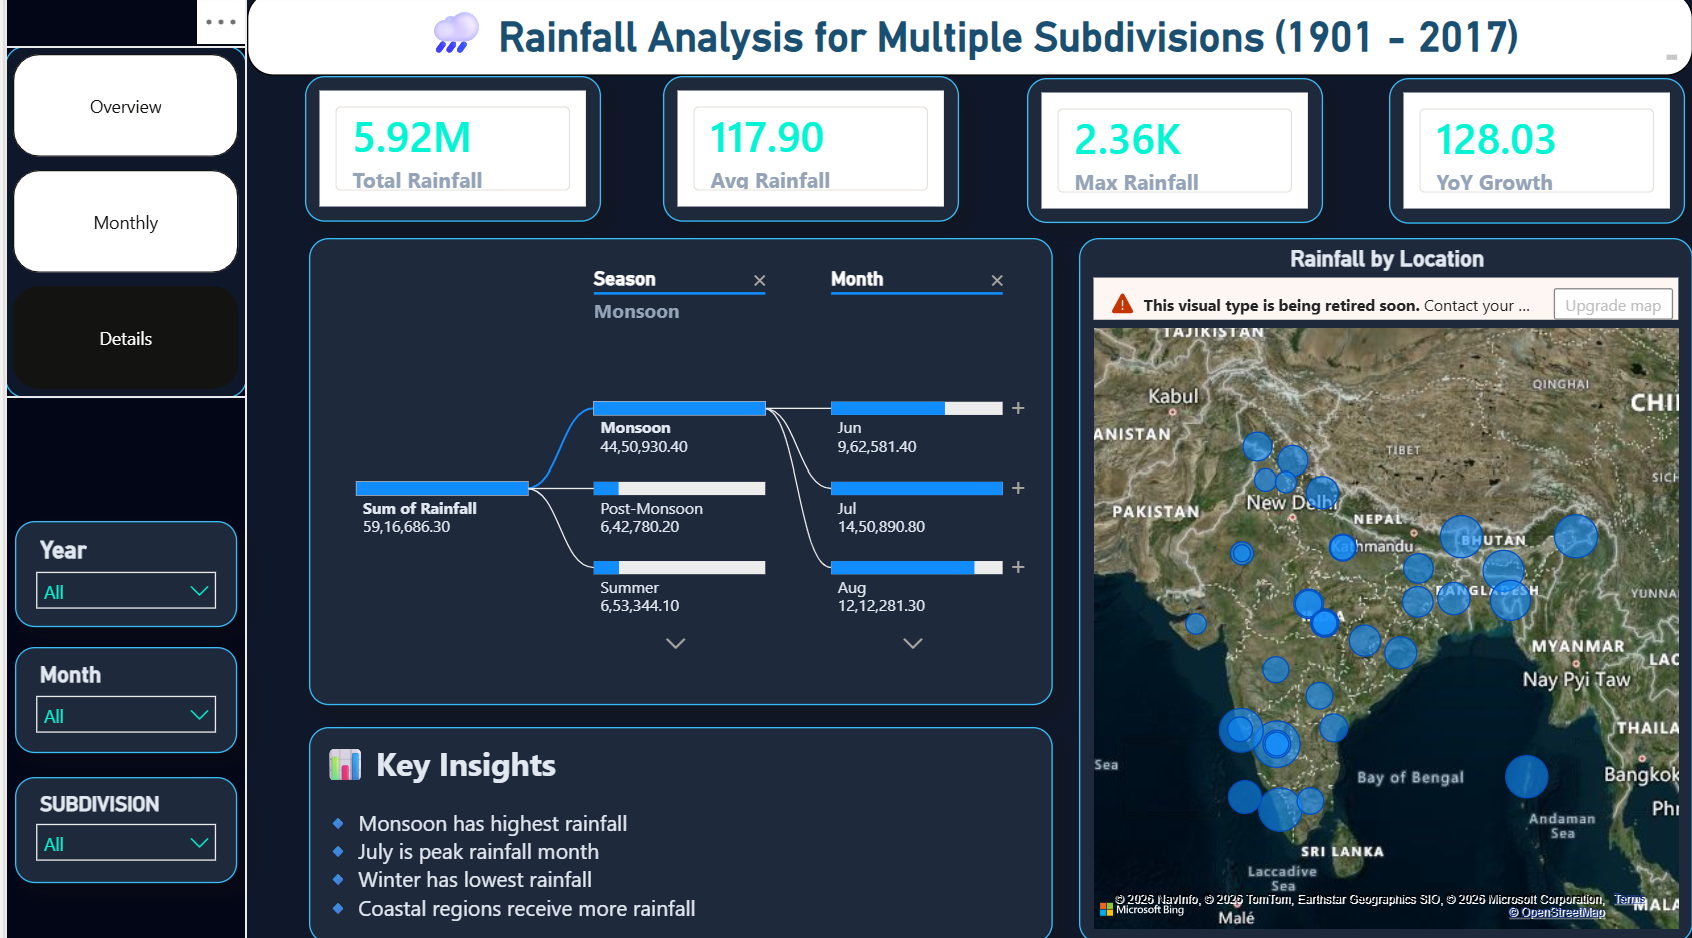

Layout of this report page (visuals, bound fields, positions):
{"tool":"powerbi","page":{"name":"Details","canvas":[1280,720],"ordinal":2},"visuals":[{"type":"cardVisual","fields":{"Data":["Sub_Division_IMD_2017.Total Rainfall"]},"box":[227.5,63.7,224.5,110.7],"z":0},{"type":"cardVisual","fields":{"Data":["Sub_Division_IMD_2017.YoY Growth"]},"box":[1049.5,65.2,224.5,110.7],"z":1000},{"type":"cardVisual","fields":{"Data":["Sub_Division_IMD_2017.Max Rainfall"]},"box":[775,65.2,224.5,110],"z":2000},{"type":"cardVisual","fields":{"Data":["Sub_Division_IMD_2017.Avg Rainfall"]},"box":[499,63.7,224.5,110.7],"z":3000},{"type":"decompositionTreeVisual","title":"Rainfall Trend (Yearly Analysis)","fields":{"Analyze":["Sum(Sub_Division_IMD_2017.Rainfall)"],"ExplainBy":["Sub_Division_IMD_2017.Season","Month Table.Month","Sub_Division_IMD_2017.SUBDIVISION"]},"box":[230.5,186.5,564.2,353.4],"z":4000},{"type":"textbox","box":[183.5,0,1096.5,63.7],"z":5000},{"type":"map","title":"Rainfall by Location","fields":{"Category":["Sub_Division_IMD_2017.Location"],"Size":["Sum(Sub_Division_IMD_2017.Rainfall)"]},"box":[814.4,186.5,465.6,533.8],"z":6000},{"type":"textbox","box":[230.5,556.6,564.2,163.8],"z":7000},{"type":"group","id":"g1","title":"Group 1","box":[0,0,183.5,720.4],"z":8000},{"type":"shape","box":[0,0,183.5,720.4],"z":8000,"group":"g1"},{"type":"slicer","fields":{"Values":["Sub_Division_IMD_2017.Year"]},"box":[7.6,400.4,168.3,80.4],"z":9000,"group":"g1"},{"type":"slicer","fields":{"Values":["Sub_Division_IMD_2017.SUBDIVISION"]},"box":[7.6,594.5,168.3,80.4],"z":10000,"group":"g1"},{"type":"bookmarkNavigator","box":[0,40.9,183.5,266.9],"z":11000,"group":"g1"},{"type":"slicer","fields":{"Values":["Month Table.Month"]},"box":[7.6,495.9,168.3,80.4],"z":12001,"group":"g1"}]}

Visuals, with their boxes on the page's 1280x720 design canvas (x1, y1, x2, y2). These are canvas units, not pixel positions in the 1692x938 screenshot, which may show the page scaled, cropped or inside an application window:
cardVisual - Sub_Division_IMD_2017.Total Rainfall: box=[228, 64, 452, 174]
cardVisual - Sub_Division_IMD_2017.YoY Growth: box=[1050, 65, 1274, 176]
cardVisual - Sub_Division_IMD_2017.Max Rainfall: box=[775, 65, 1000, 175]
cardVisual - Sub_Division_IMD_2017.Avg Rainfall: box=[499, 64, 724, 174]
"Rainfall Trend (Yearly Analysis)" decompositionTreeVisual: box=[230, 186, 795, 540]
textbox: box=[184, 0, 1280, 64]
"Rainfall by Location" map: box=[814, 186, 1280, 720]
textbox: box=[230, 557, 795, 720]
"Group 1" group: box=[0, 0, 184, 720]
shape: box=[0, 0, 184, 720]
slicer - Sub_Division_IMD_2017.Year: box=[8, 400, 176, 481]
slicer - Sub_Division_IMD_2017.SUBDIVISION: box=[8, 594, 176, 675]
bookmarkNavigator: box=[0, 41, 184, 308]
slicer - Month Table.Month: box=[8, 496, 176, 576]
